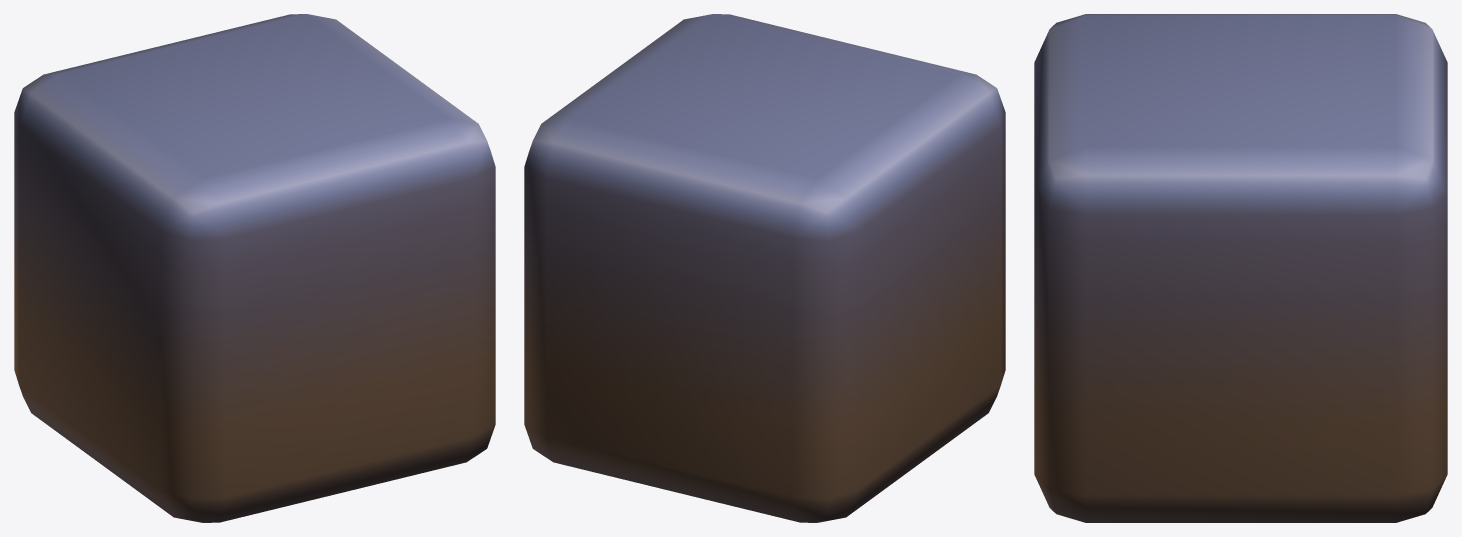
Rendered from block_mountain_2_0.fbx.
3 views of the same model, side by side, from view 1: azimuth 30°, elevation 25°; view 2: azimuth 150°, elevation 25°; view 3: azimuth 270°, elevation 25° (orthographic). The views are drawn at different scales.
Visible parts, largest first — view 1: block_mountain_2_0; view 2: block_mountain_2_0; view 3: block_mountain_2_0.
Part boxes in pixels (bbox=[...]): block_mountain_2_0: bbox=[14, 14, 495, 522]; block_mountain_2_0: bbox=[524, 14, 1005, 522]; block_mountain_2_0: bbox=[1034, 14, 1447, 522].
Bounding box in the file's own units: 200 × 200 × 200.
